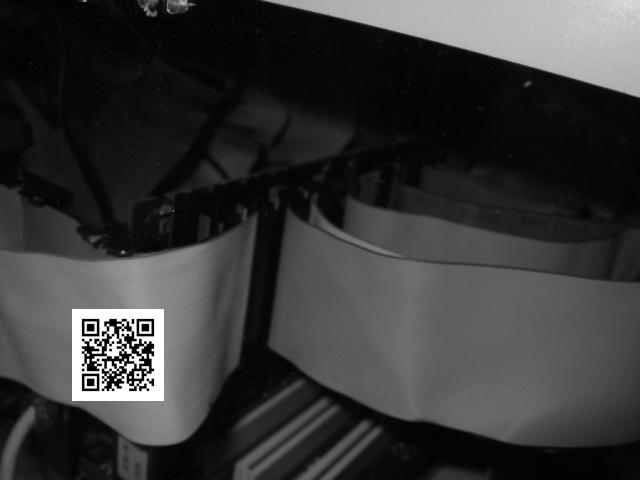qr_code: (73, 310, 162, 399)
